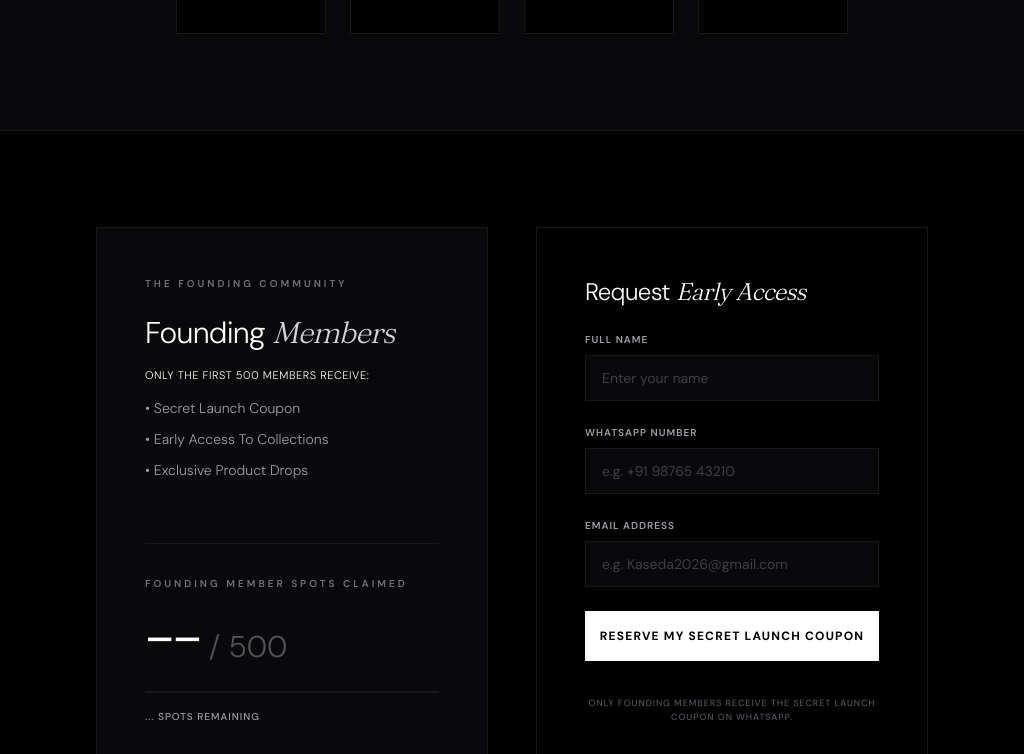
Home Page Unit Tests › Registration Form Validation & State › displays validation error for empty phone
(page scrolled)
Type "John Doe" into the field labelled "Full Name". click: point(732, 378)
box: [585,355,879,401]
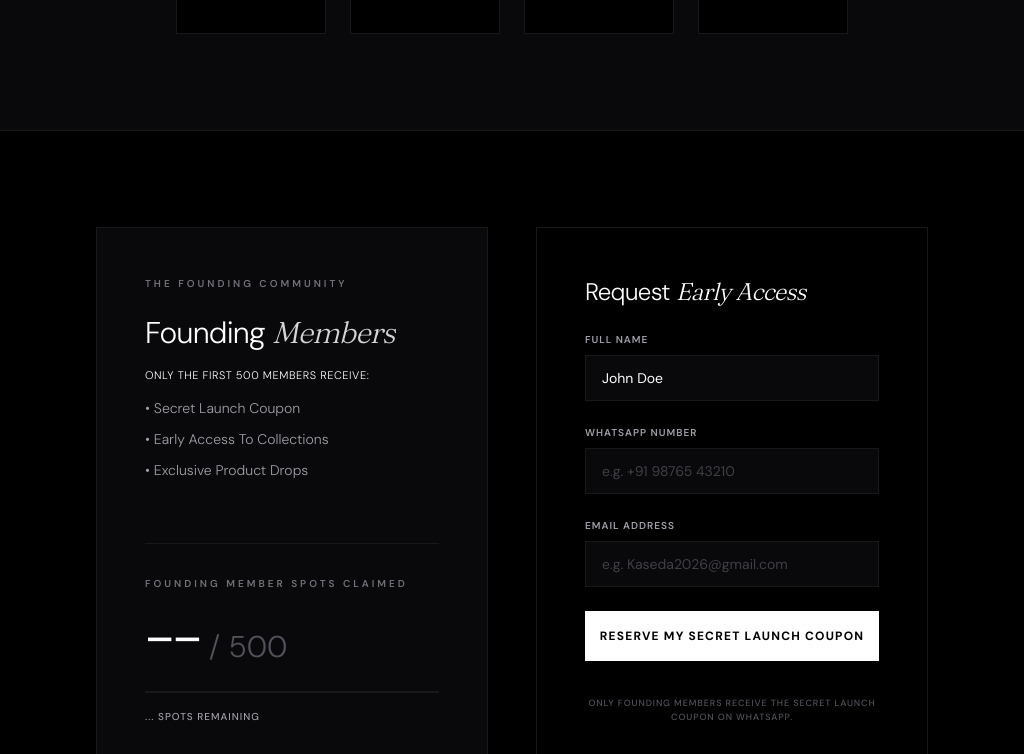
Type "test@example.com" into the field labelled "Email Address". click: point(732, 564)
box: [585,541,879,587]
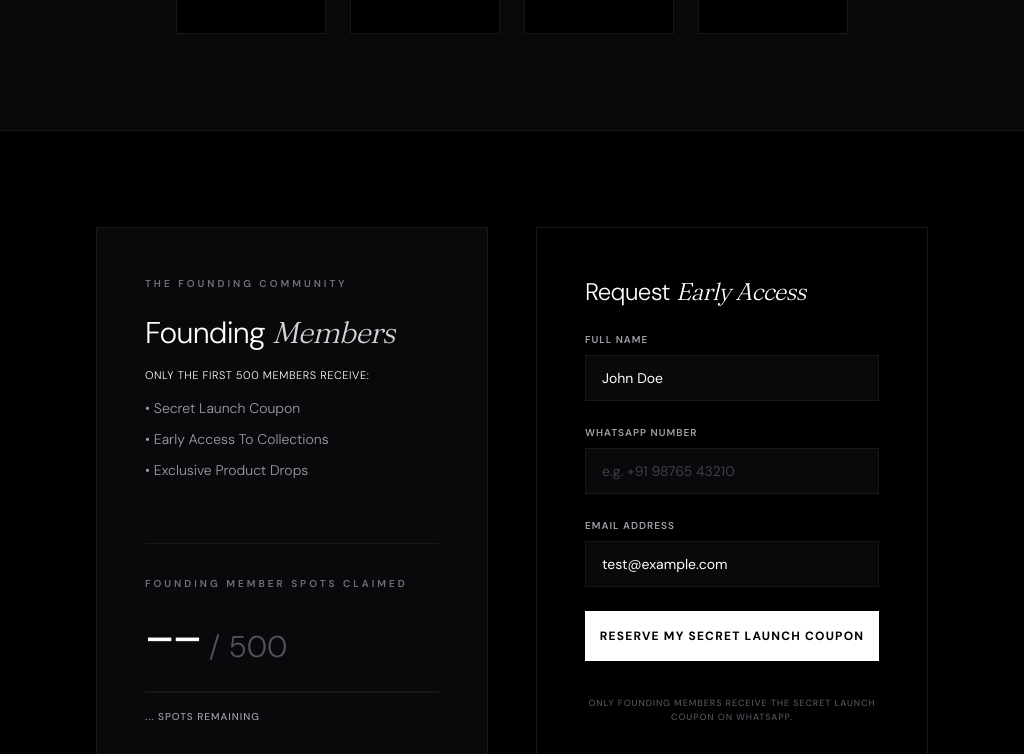
Submit the text "Reserve My Secret Launch Coupon", box [585,332,879,724]
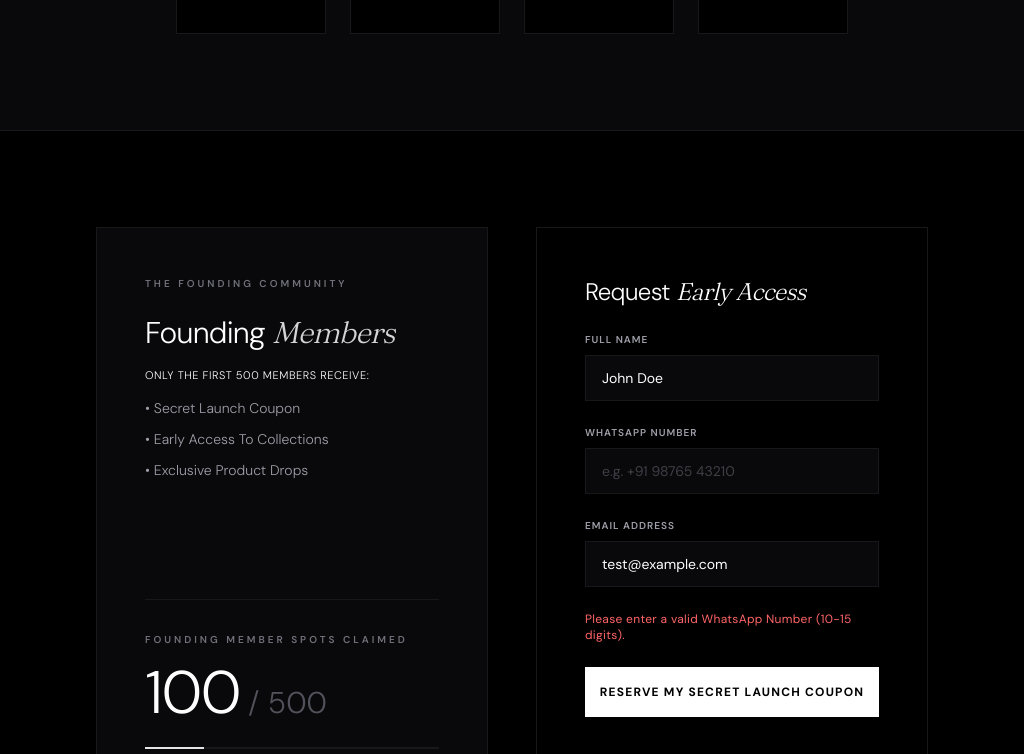
Check: the text "Please enter a valid WhatsApp Number (10-15 digits)." is shown, box [585,611,879,643]
